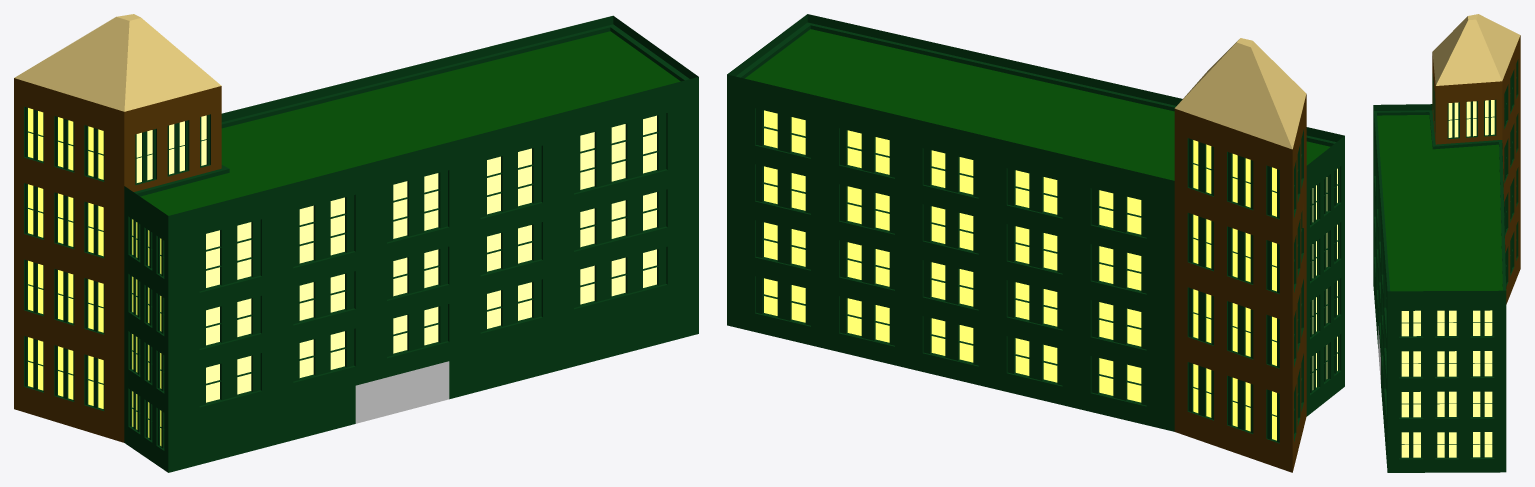
File: 14_el_garcia_boulevard.fbx
3 renders of one model, left to right at view 1: azimuth 30°, elevation 25°; view 2: azimuth 150°, elevation 25°; view 3: azimuth 270°, elevation 25°, orthographic. The views are drawn at different scales.
Visible parts, largest first — view 1: Plane; view 2: Plane; view 3: Plane.
Boxes of the visible parts, box(x1,y1,x2,y2) form: Plane: box(14, 14, 698, 472); Plane: box(727, 14, 1344, 472); Plane: box(1373, 14, 1520, 472).
Size of the model in its own units: 1120 by 718 by 342.
